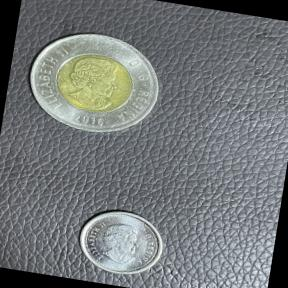coin: (13, 18, 171, 150), (69, 202, 173, 284)
